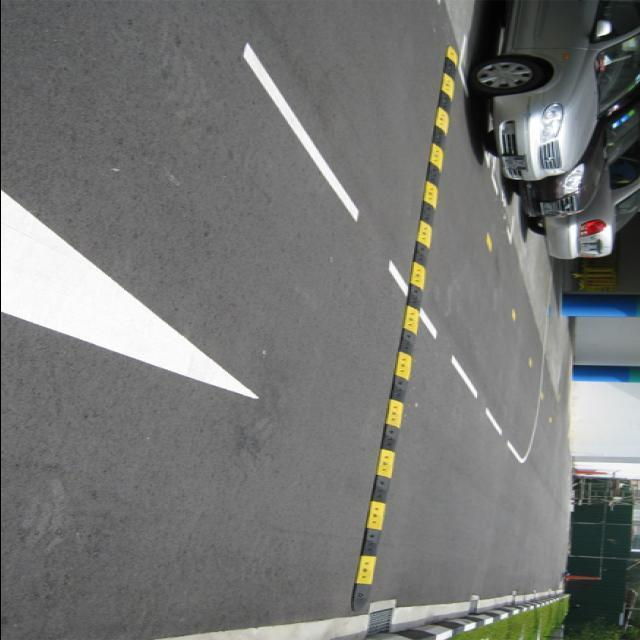speedbreaker: (348, 48, 466, 612)
